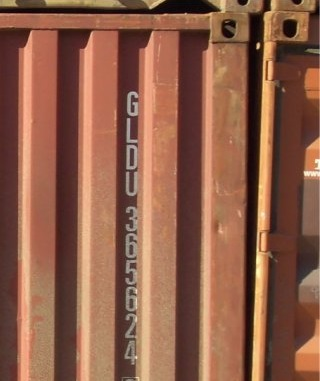container_no_door: (1, 11, 244, 380)
